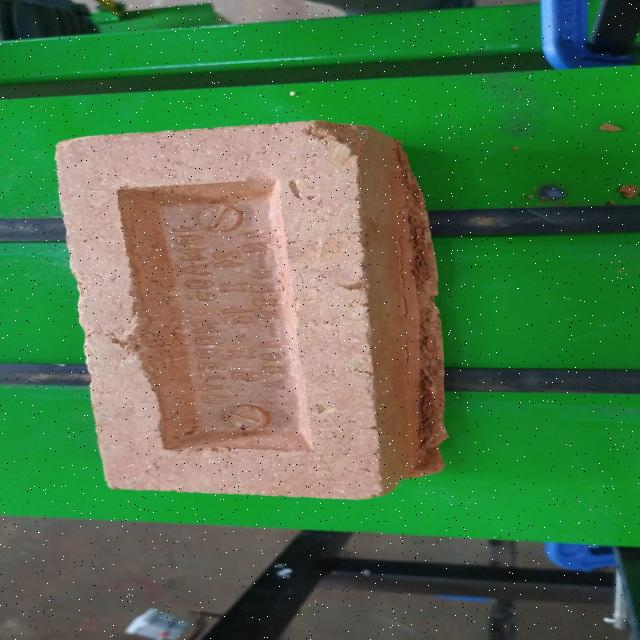bricks_ruin: (53, 117, 448, 500)
